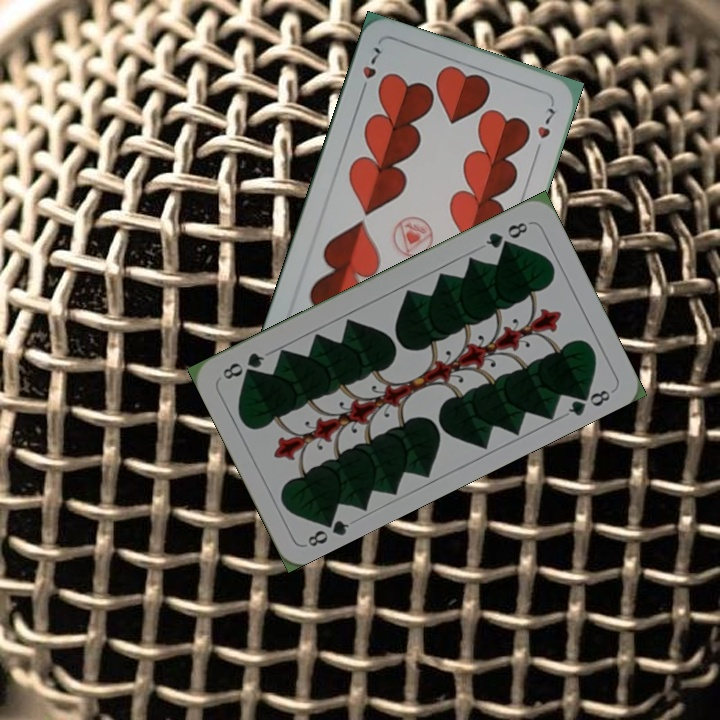G8: (301, 510, 352, 550), (481, 218, 531, 251)
H7: (356, 43, 384, 98)
